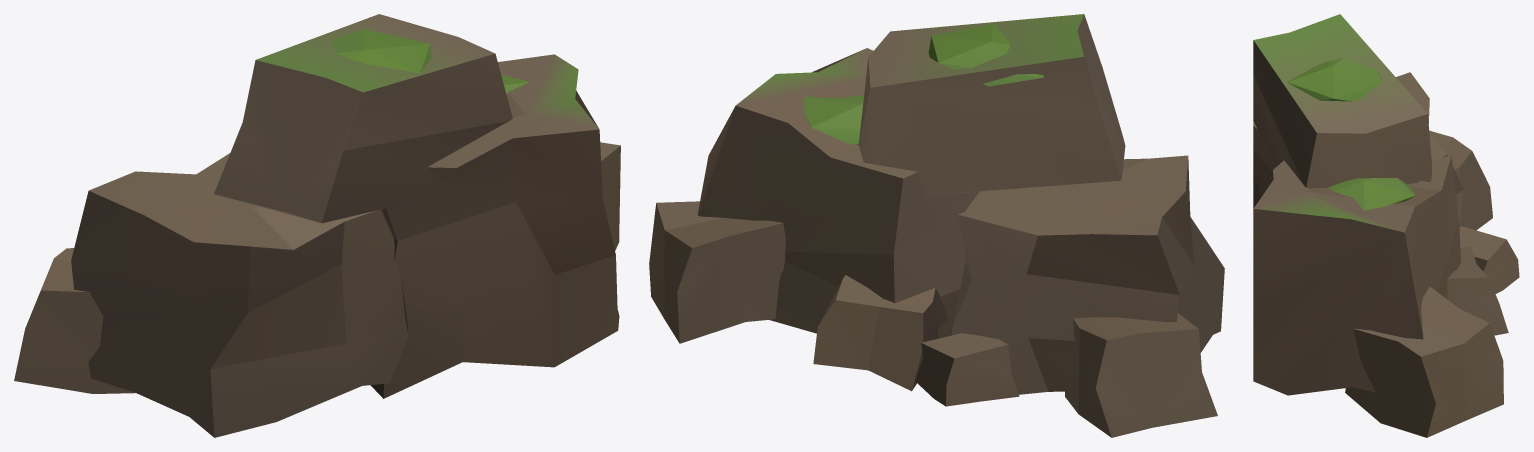
Rendered from cave_rockform_tumble_v3.fbx.
3 views of the same model, side by side, from view 1: azimuth 30°, elevation 25°; view 2: azimuth 150°, elevation 25°; view 3: azimuth 270°, elevation 25° (orthographic). The views are drawn at different scales.
Parts seen in each view (by area): view 1: cave_rockform_tumble_v3; view 2: cave_rockform_tumble_v3; view 3: cave_rockform_tumble_v3.
Boxes of the visible parts, x1,y1,x2,y2 form: cave_rockform_tumble_v3: (14, 14, 620, 437); cave_rockform_tumble_v3: (649, 14, 1224, 437); cave_rockform_tumble_v3: (1253, 14, 1519, 437).
Size of the model in its own units: 1844 by 961 by 865.
